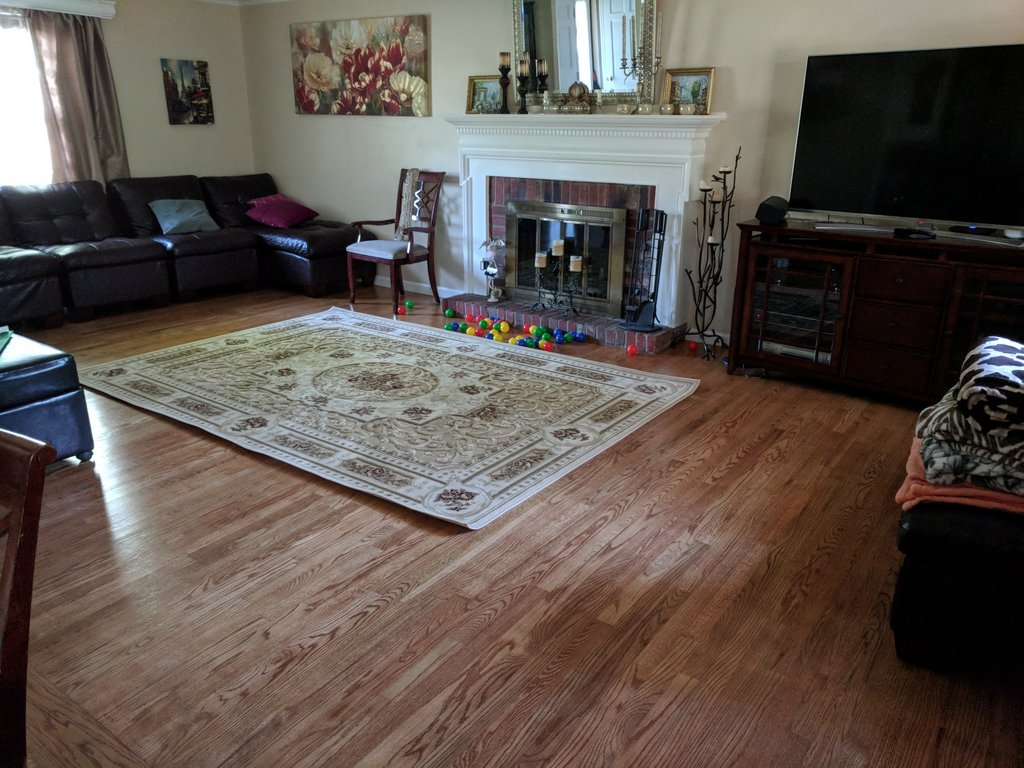ball: (397, 306, 406, 315)
